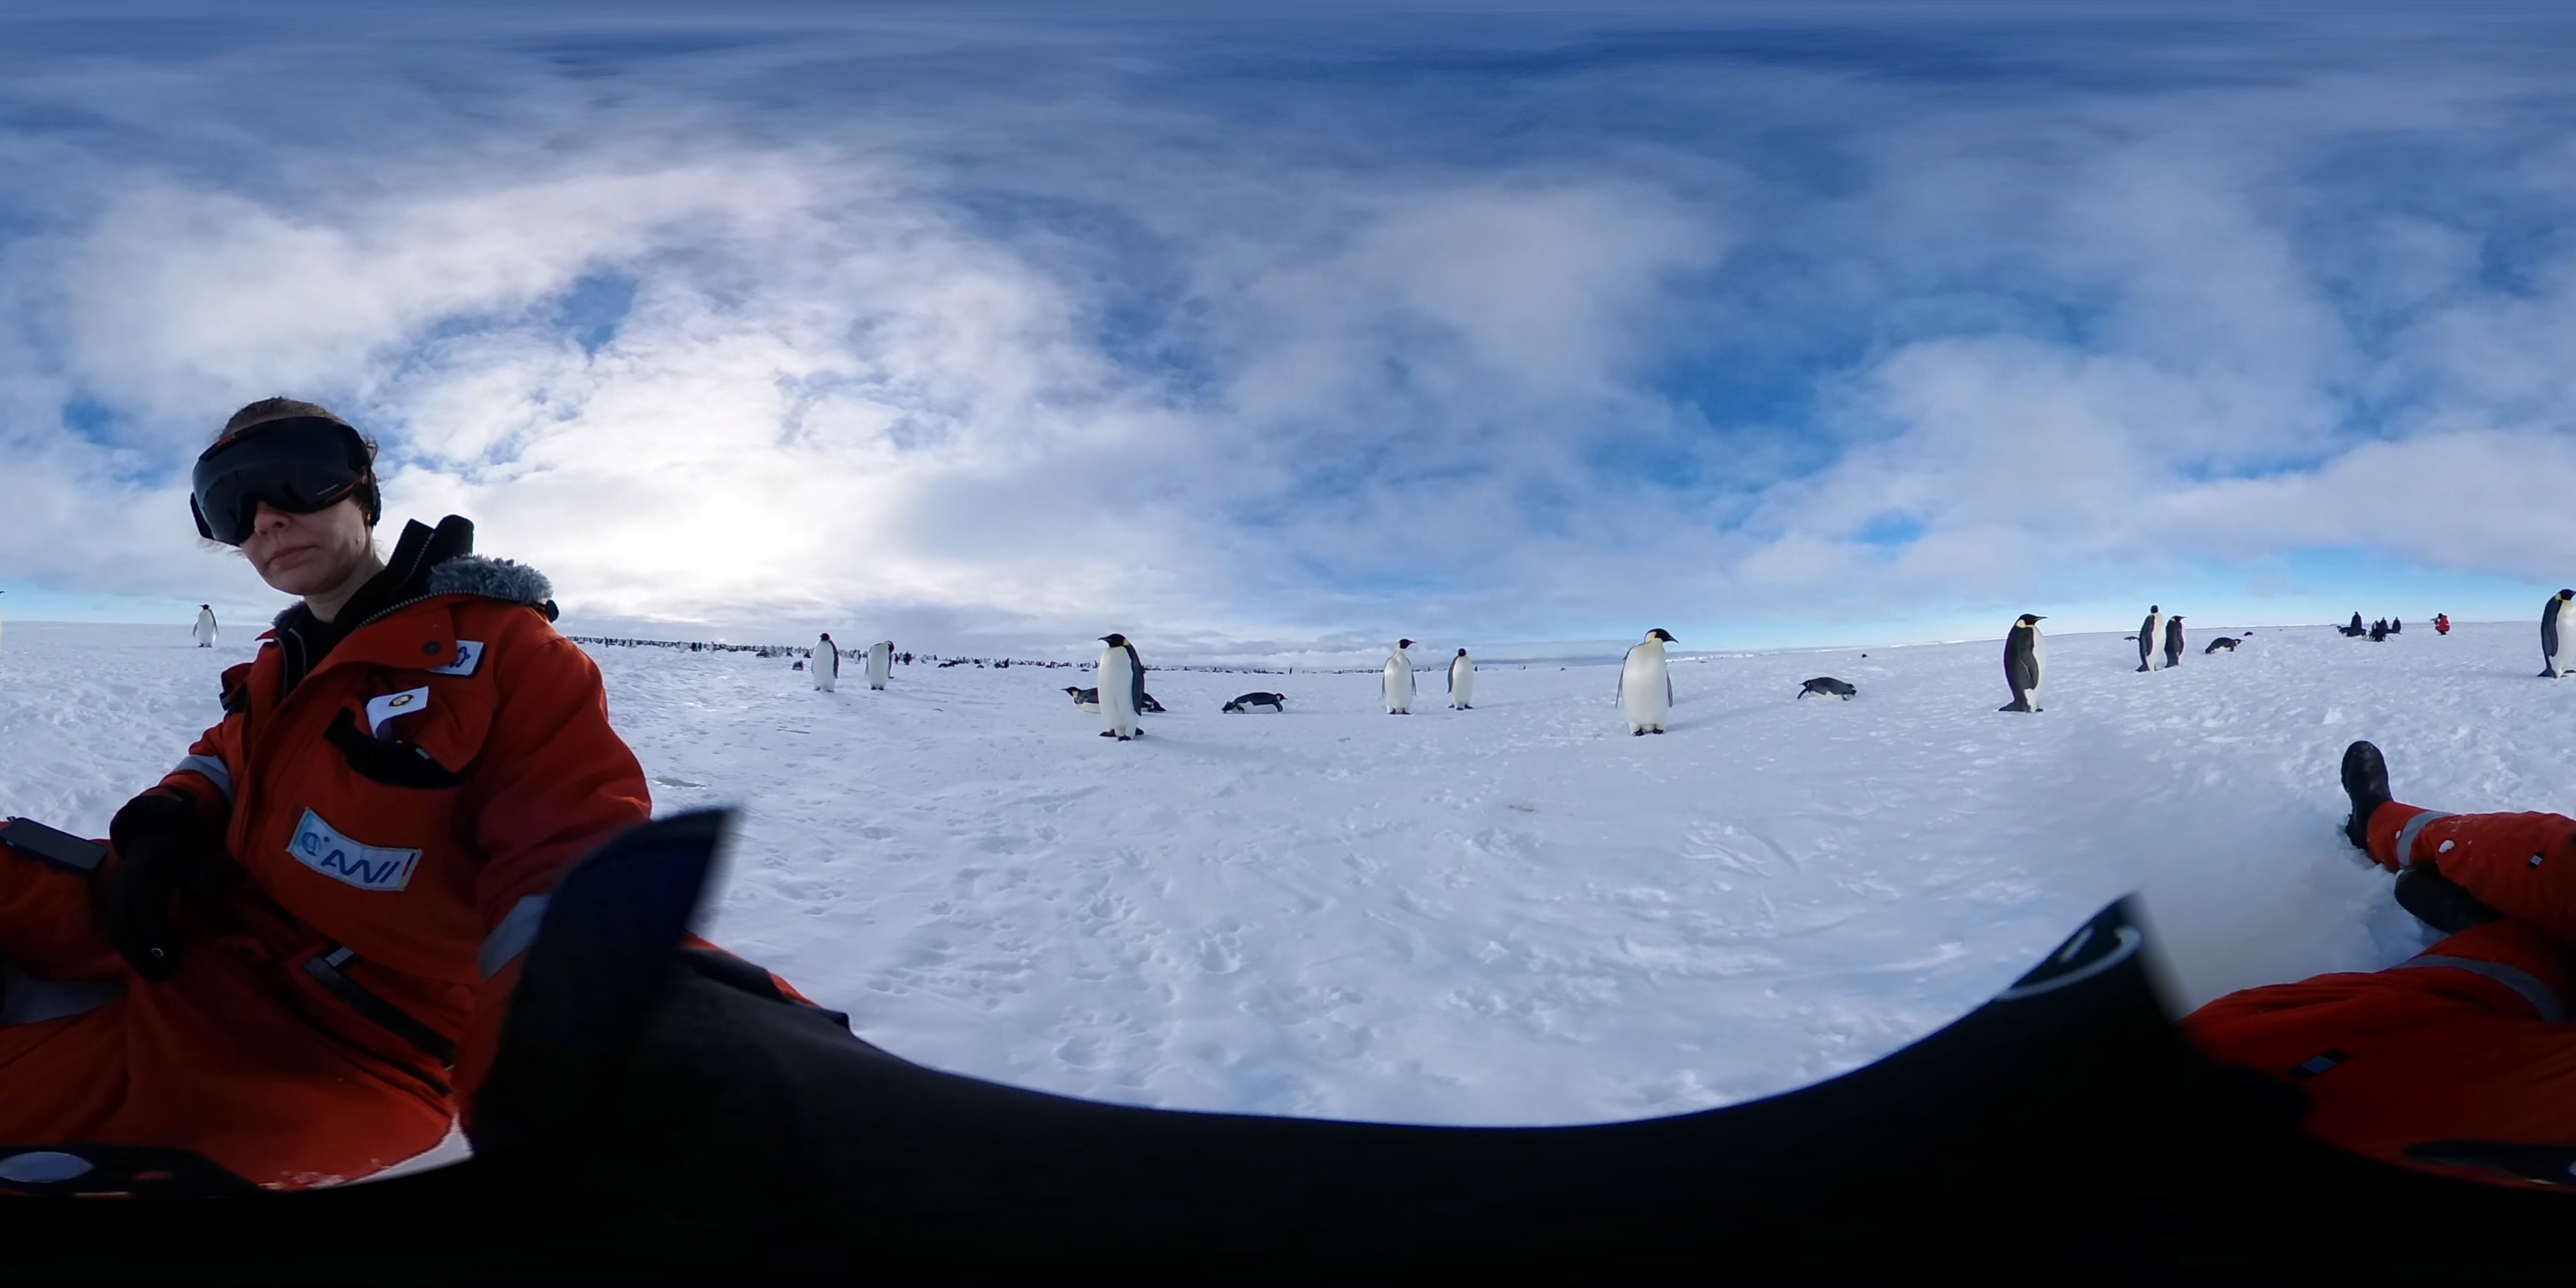adult_standing_penguin: (1613, 623, 1681, 743), (1092, 632, 1147, 743), (1996, 608, 2047, 715), (1377, 636, 1424, 720), (2538, 583, 2576, 680), (2136, 605, 2169, 677), (1444, 647, 1477, 715), (812, 632, 841, 695), (862, 639, 897, 692), (191, 600, 220, 647), (2165, 614, 2187, 669), (2349, 608, 2362, 639), (2390, 618, 2402, 637)
adult_toboggan_penguin: (1061, 685, 1163, 715), (1796, 677, 1856, 705), (1219, 692, 1290, 715), (2200, 636, 2252, 657), (2333, 623, 2364, 641)
researcher: (7, 366, 851, 1147), (2428, 611, 2451, 636)
